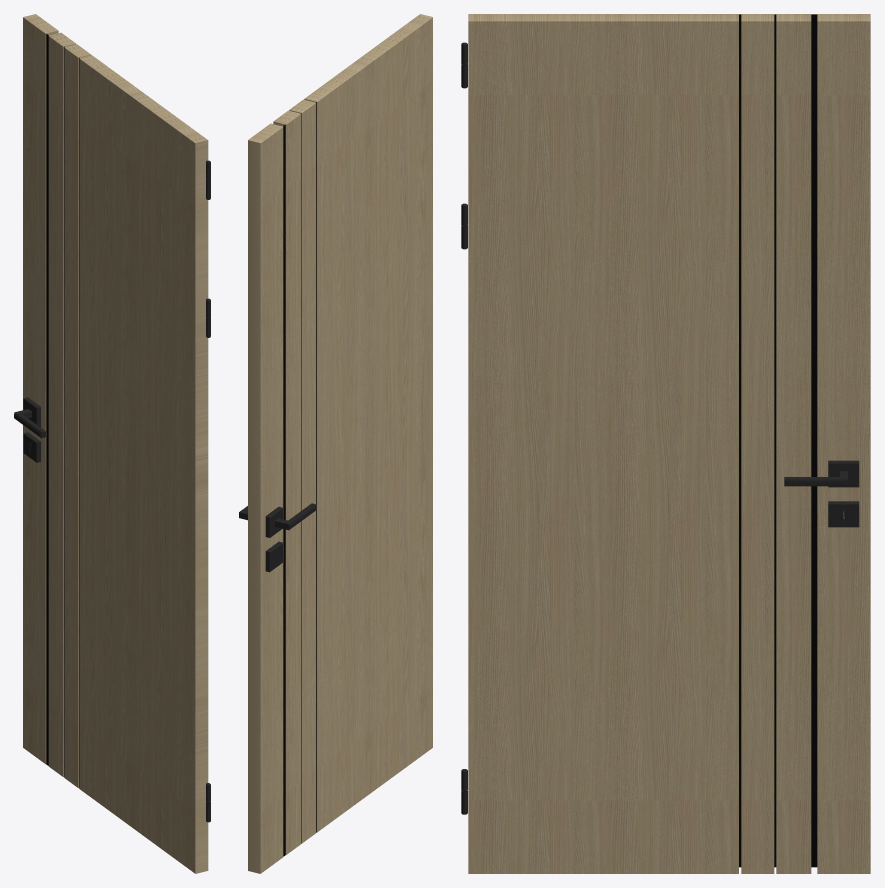
File: TherapyRoomDoor.fbx
3 renders of one model, left to right at view 1: azimuth 30°, elevation 25°; view 2: azimuth 150°, elevation 25°; view 3: azimuth 270°, elevation 25°, orthographic. The views are drawn at different scales.
Parts seen in each view (by area): view 1: Rectangle2106777266, Rectangle2106777267, Rectangle2106777273, Rectangle2106777269, Rectangle2106777274, Group1, Rectangle2106777271, Rectangle2106777272; view 2: Rectangle2106777266, Rectangle2106777267, Rectangle2106777273, Rectangle2106777269, Rectangle2106777274, Group1, Rectangle2106777272, Rectangle2106777271; view 3: Rectangle2106777266, Rectangle2106777267, Rectangle2106777273, Rectangle2106777269, Rectangle2106777274, Rectangle2106777271, Rectangle2106777272, Group2.
Boxes of the visible parts, bbox=[...] form: Rectangle2106777266: bbox=[79, 55, 208, 873]; Rectangle2106777267: bbox=[23, 14, 58, 764]; Rectangle2106777273: bbox=[48, 32, 75, 777]; Rectangle2106777269: bbox=[64, 44, 91, 788]; Rectangle2106777274: bbox=[46, 34, 48, 765]; Group1: bbox=[14, 397, 45, 462]; Rectangle2106777271: bbox=[64, 46, 64, 776]; Rectangle2106777272: bbox=[79, 57, 79, 787]; Rectangle2106777266: bbox=[304, 14, 432, 832]; Rectangle2106777267: bbox=[248, 123, 283, 873]; Rectangle2106777273: bbox=[273, 110, 300, 854]; Rectangle2106777269: bbox=[289, 99, 315, 843]; Rectangle2106777274: bbox=[283, 124, 285, 856]; Group1: bbox=[265, 503, 316, 572]; Rectangle2106777272: bbox=[315, 102, 316, 832]; Rectangle2106777271: bbox=[300, 113, 301, 843]; Rectangle2106777266: bbox=[468, 14, 738, 873]; Rectangle2106777267: bbox=[817, 14, 870, 873]; Rectangle2106777273: bbox=[776, 14, 811, 873]; Rectangle2106777269: bbox=[741, 14, 774, 873]; Rectangle2106777274: bbox=[811, 14, 817, 867]; Rectangle2106777271: bbox=[774, 14, 776, 867]; Rectangle2106777272: bbox=[739, 14, 741, 867]; Group2: bbox=[784, 460, 859, 527].
Bounding box in the file's own units: 154 × 2100 × 913.
